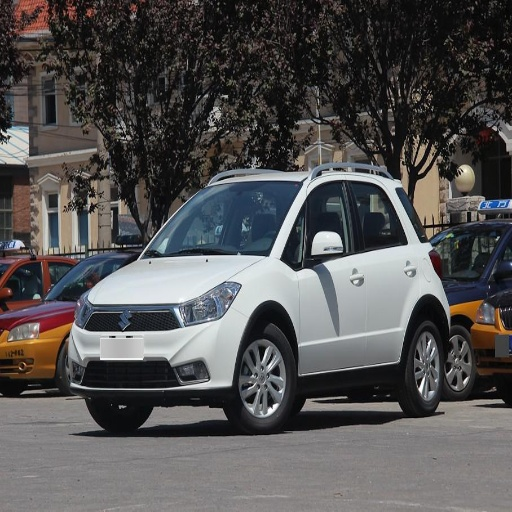front_bumper: (61, 301, 248, 400)
front_glass: (143, 182, 301, 257)
front_left_door: (299, 178, 369, 373)
